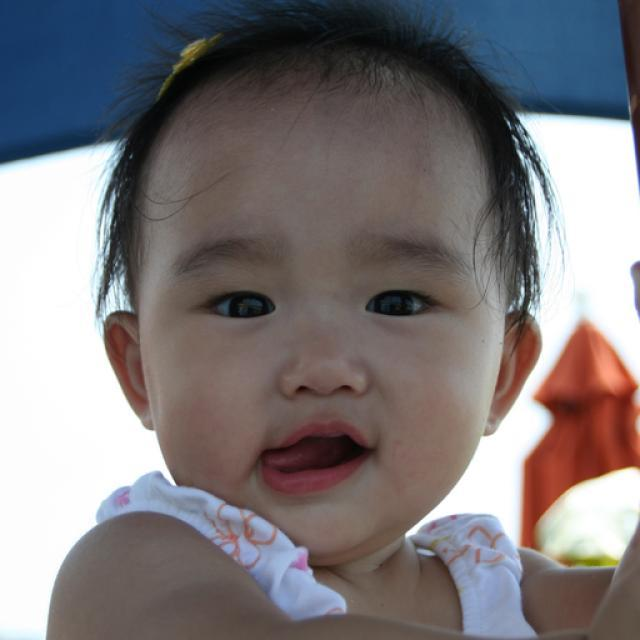happy: (141, 100, 504, 555)
